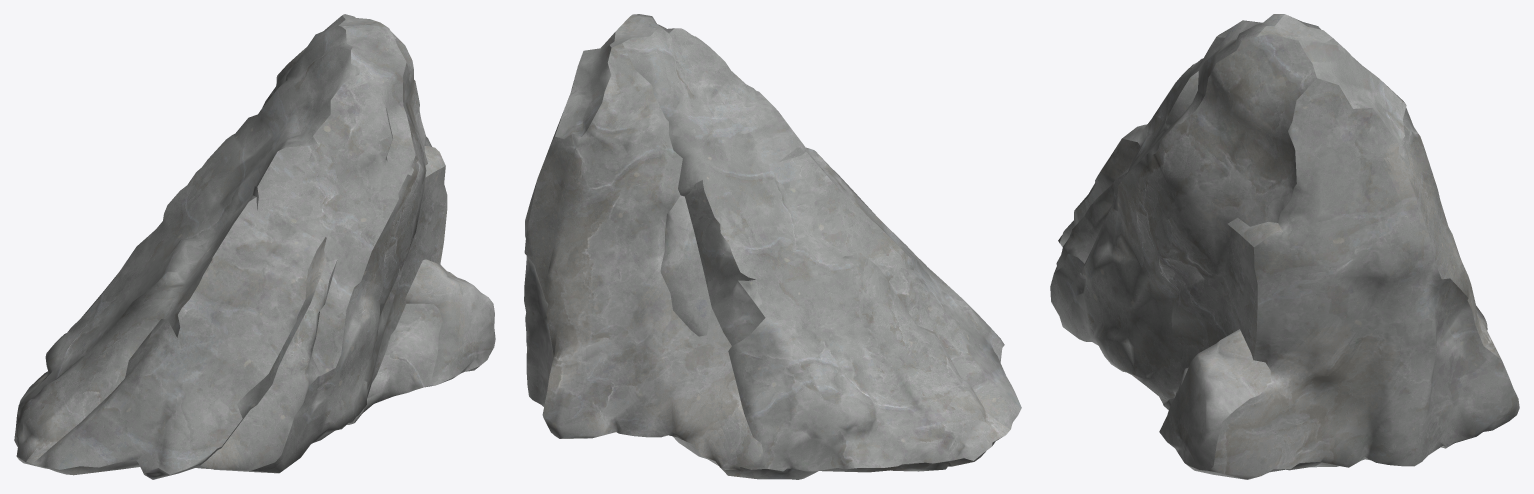
Rendered from SM_Com_Roc_72AL.fbx.
The picture shows the model from 3 angles, left to right: view 1: azimuth 30°, elevation 25°; view 2: azimuth 150°, elevation 25°; view 3: azimuth 270°, elevation 25°; orthographic projection. The views are drawn at different scales.
Parts seen in each view (by area): view 1: SM_Com_Roc_72AL.mo; view 2: SM_Com_Roc_72AL.mo; view 3: SM_Com_Roc_72AL.mo.
Part boxes in pixels (left/top/right/bottom): SM_Com_Roc_72AL.mo: left=14, top=14, right=495, bottom=479; SM_Com_Roc_72AL.mo: left=524, top=14, right=1021, bottom=479; SM_Com_Roc_72AL.mo: left=1050, top=14, right=1519, bottom=479.
Size of the model in its own units: 196 by 151 by 147.
